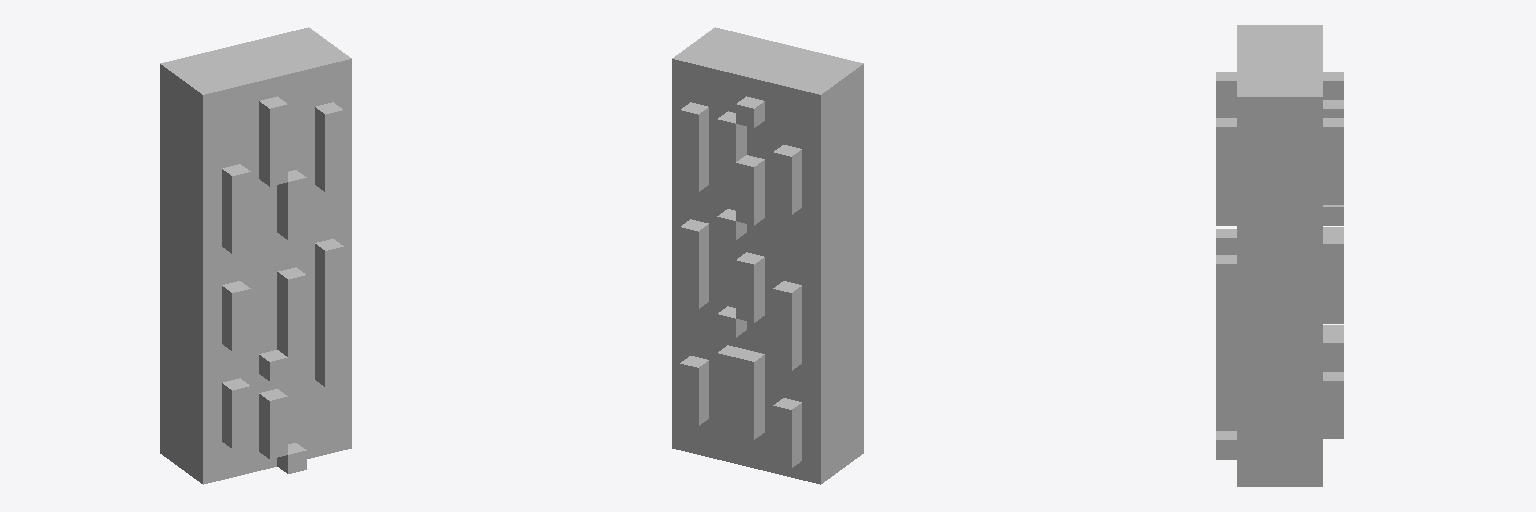
Rendered from bill.obj.
The picture shows the model from 3 angles: view 1: azimuth 30°, elevation 25°; view 2: azimuth 150°, elevation 25°; view 3: azimuth 270°, elevation 25°; orthographic projection.
Parts seen in each view (by area): view 1: object 1; view 2: object 1; view 3: object 1.
Part boxes in pixels (bbox=[...]): object 1: bbox=[160, 27, 351, 484]; object 1: bbox=[672, 27, 863, 484]; object 1: bbox=[1216, 25, 1343, 486].
Bounding box in the file's own units: 0.8 × 2 × 0.6.